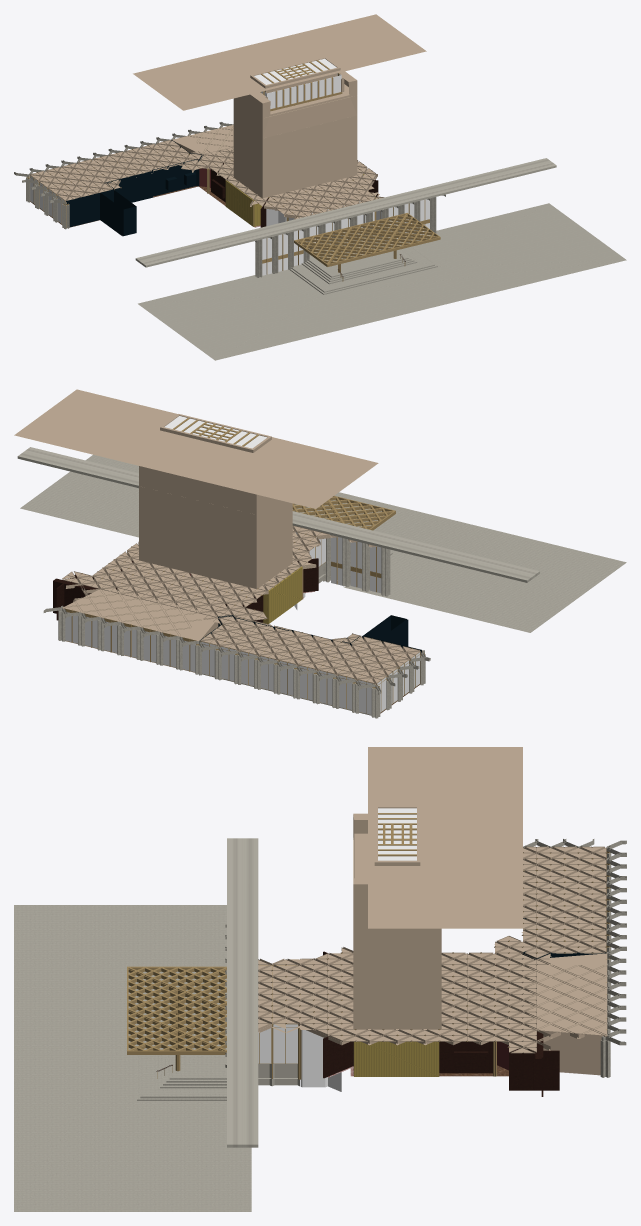
File: Chancery Rosewood_LOBBY and pav_BAKE_V4.glb
The picture shows the model from 3 angles, top to bottom: view 1: azimuth 30°, elevation 25°; view 2: azimuth 150°, elevation 25°; view 3: azimuth 270°, elevation 25°; orthographic projection. The views are drawn at different scales.
Visible parts, largest first — view 1: FRONT_LOW, ATRIUM_LOW, WEST PAVILLION_LOW, LOBBY_LOW, BackLobby, ENTRANCE_LOW; view 2: ATRIUM_LOW, FRONT_LOW, WEST PAVILLION_LOW, LOBBY_LOW, BackLobby; view 3: FRONT_LOW, ATRIUM_LOW, LOBBY_LOW, WEST PAVILLION_LOW, BackLobby, ENTRANCE_LOW.
Part boxes in pixels (x1,y1,x2,y2): FRONT_LOW: [135, 158, 626, 360]; ATRIUM_LOW: [133, 14, 426, 198]; WEST PAVILLION_LOW: [14, 137, 214, 236]; LOBBY_LOW: [181, 145, 384, 227]; BackLobby: [169, 122, 233, 155]; ENTRANCE_LOW: [266, 194, 381, 258]; ATRIUM_LOW: [14, 389, 378, 588]; FRONT_LOW: [17, 447, 626, 632]; WEST PAVILLION_LOW: [195, 611, 430, 718]; LOBBY_LOW: [53, 525, 331, 623]; BackLobby: [43, 589, 218, 672]; FRONT_LOW: [14, 838, 258, 1211]; ATRIUM_LOW: [353, 747, 522, 1028]; LOBBY_LOW: [258, 936, 559, 1096]; WEST PAVILLION_LOW: [521, 839, 626, 985]; BackLobby: [529, 951, 626, 1077]; ENTRANCE_LOW: [258, 965, 350, 1091].
Bounding box in the file's own units: 89.3 × 30.5 × 74.8.
39 materials, 12 textured.
